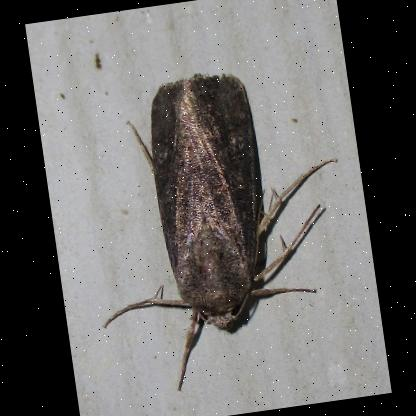Fall Armyworm Moth: (66, 51, 368, 405)
